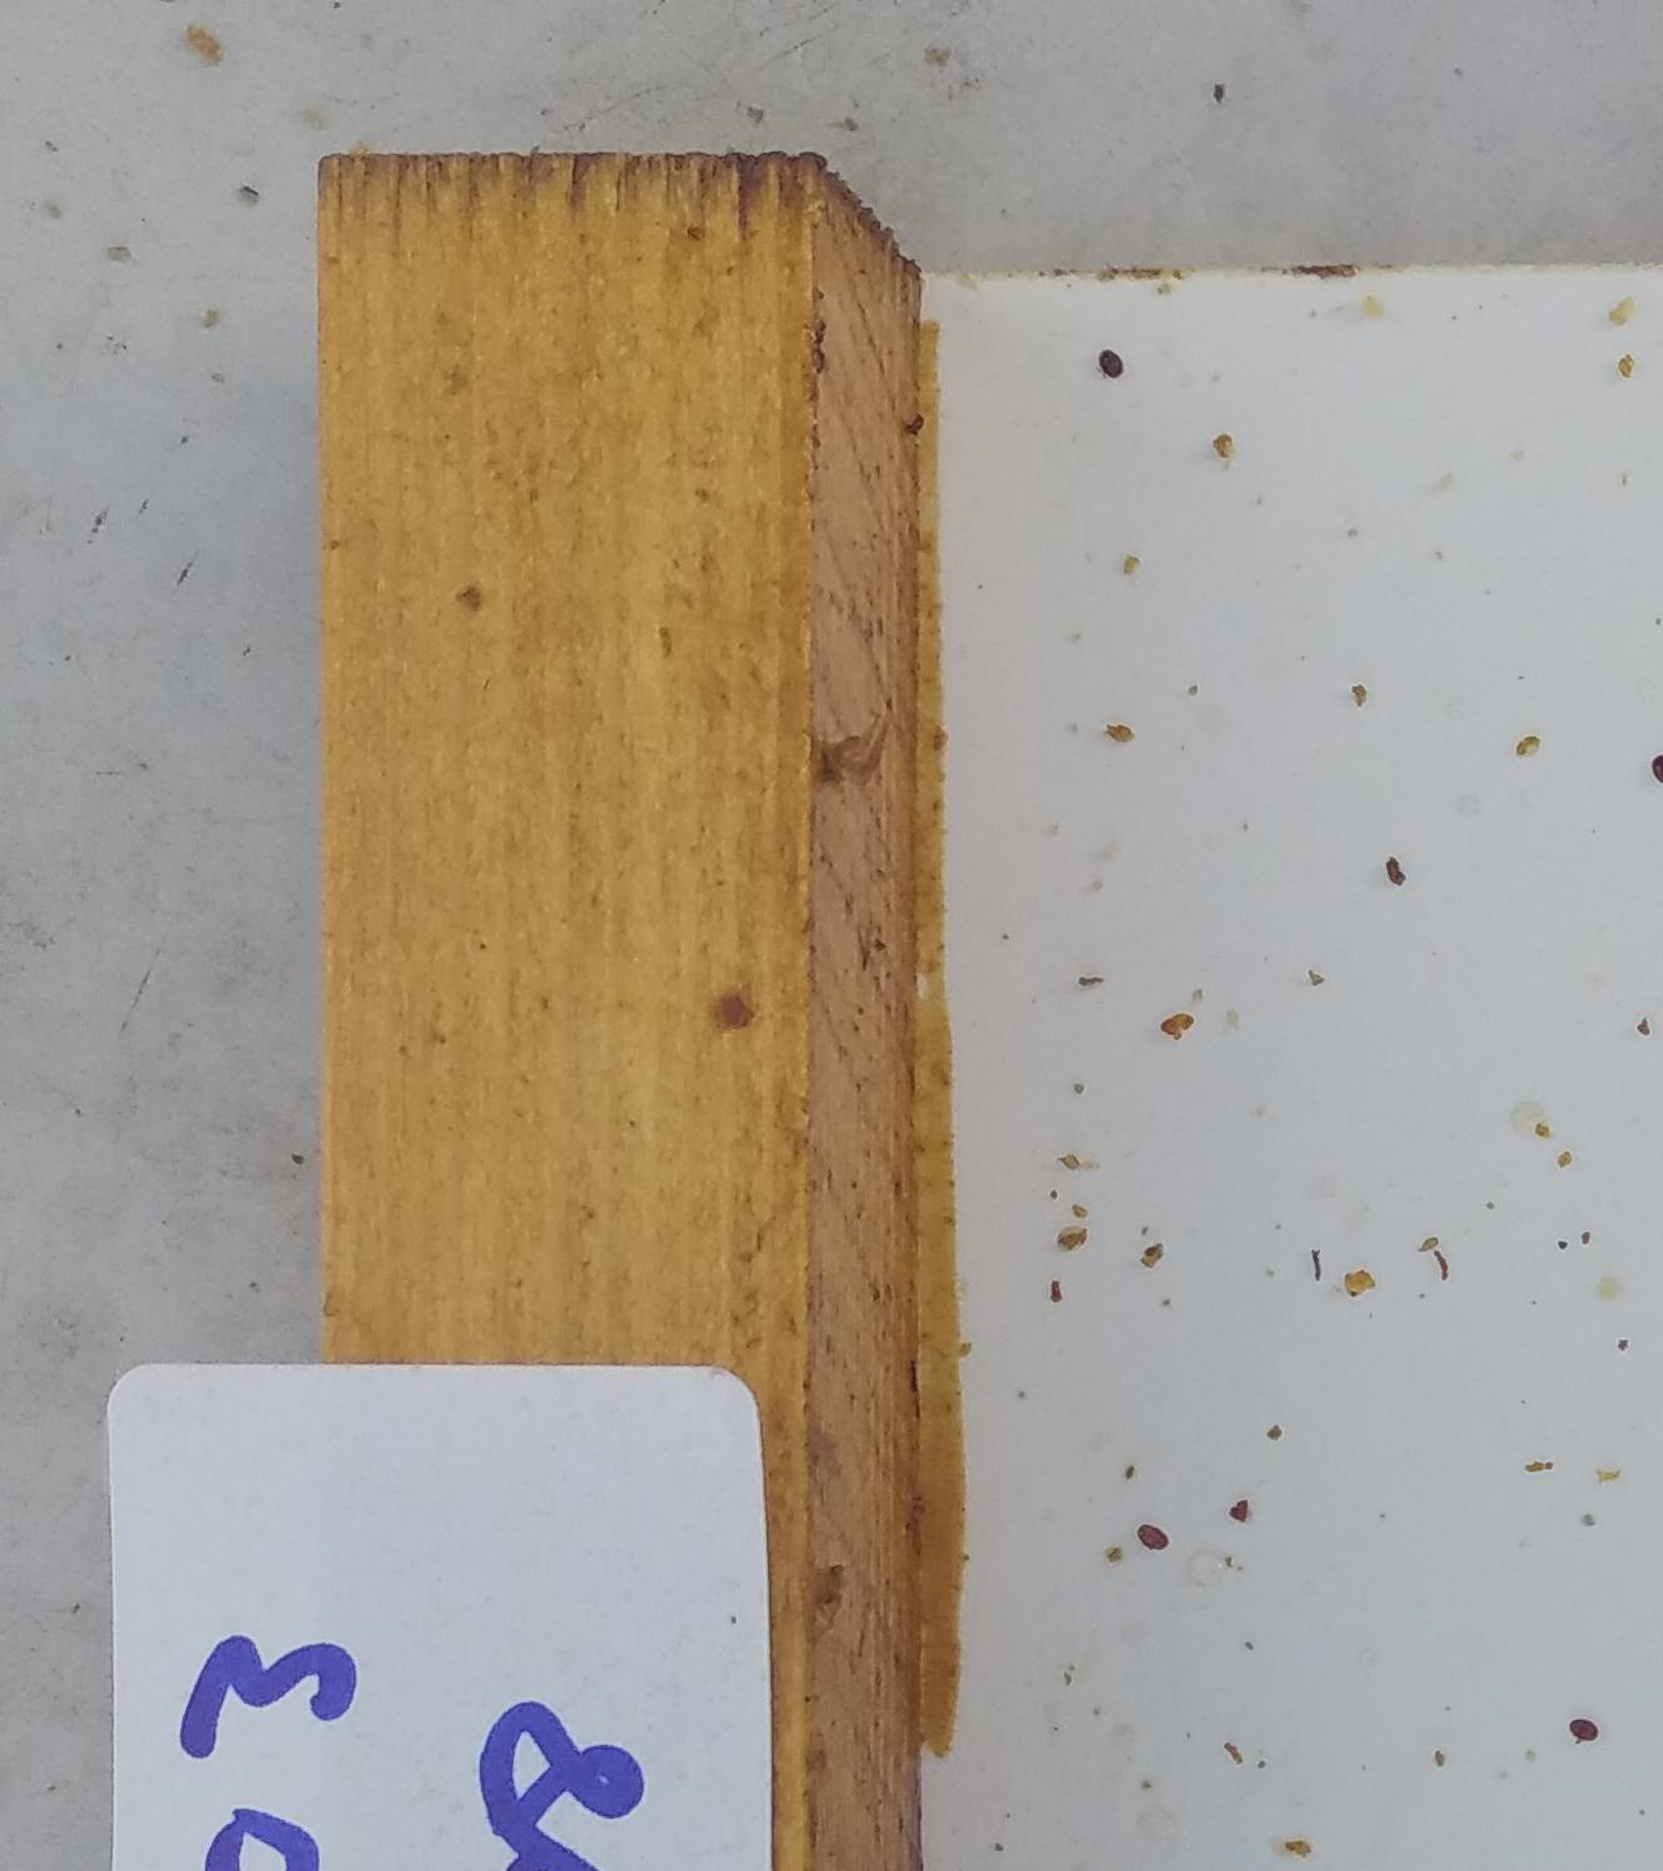Varroa: (1140, 1524, 1169, 1550), (1580, 1720, 1599, 1744), (1104, 348, 1124, 367)
